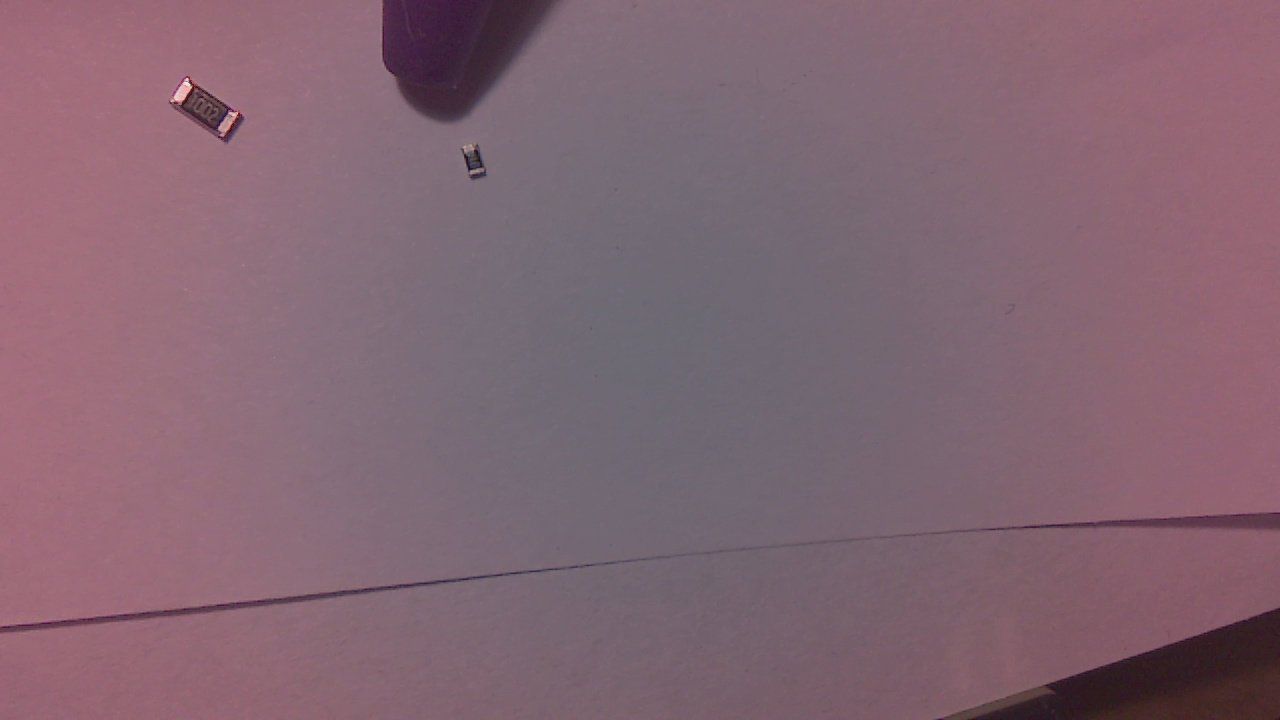Resistor: (169, 79, 250, 149), (467, 145, 496, 187)
